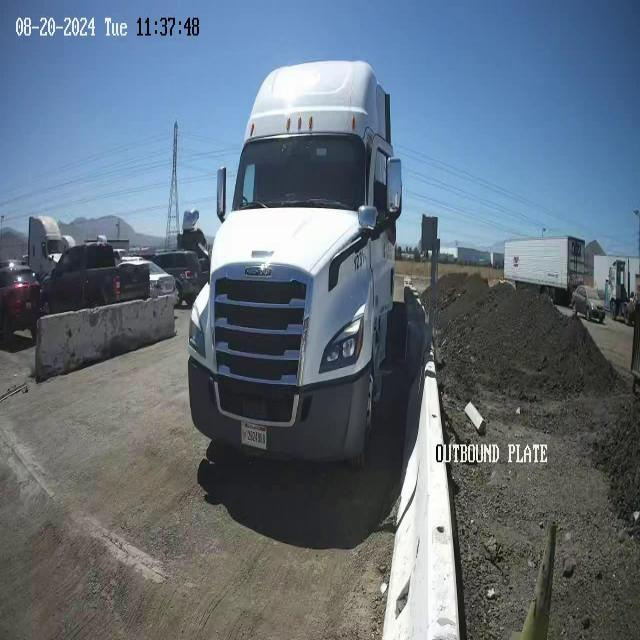TRUCK_OUT: (187, 58, 403, 471)
